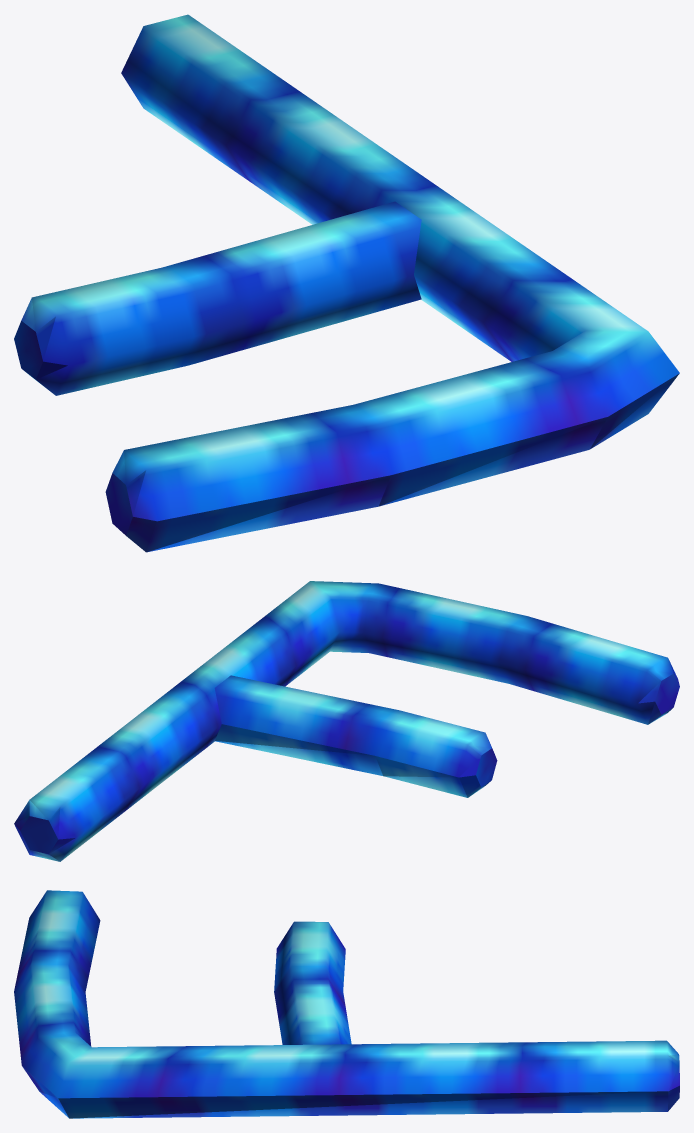
File: furni_0200453.FBX
3 renders of one model, top to bottom at view 1: azimuth 30°, elevation 25°; view 2: azimuth 150°, elevation 25°; view 3: azimuth 270°, elevation 25°, orthographic. The views are drawn at different scales.
Parts seen in each view (by area): view 1: furni_0200453; view 2: furni_0200453; view 3: furni_0200453.
Boxes of the visible parts, bbox=[...] form: furni_0200453: bbox=[14, 14, 679, 552]; furni_0200453: bbox=[14, 581, 679, 861]; furni_0200453: bbox=[14, 890, 679, 1118].
Bounding box in the file's own units: 36.17 × 5.11 × 55.
Materials: 1 (1 with a texture image).
